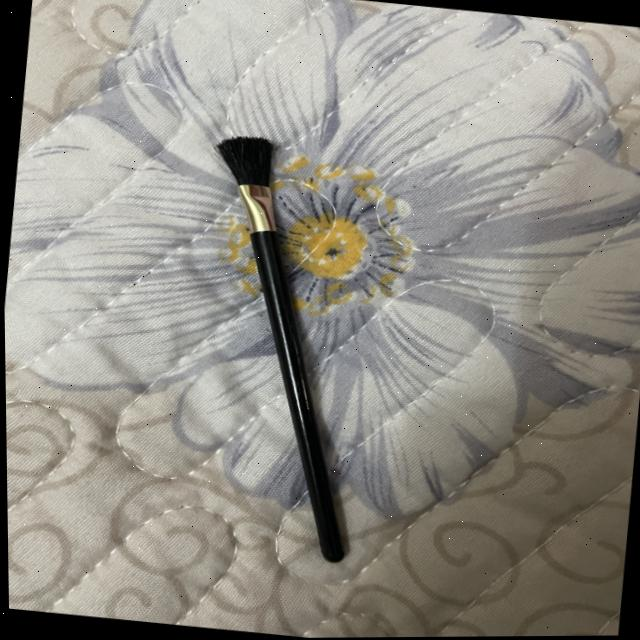brush: (157, 113, 406, 600)
